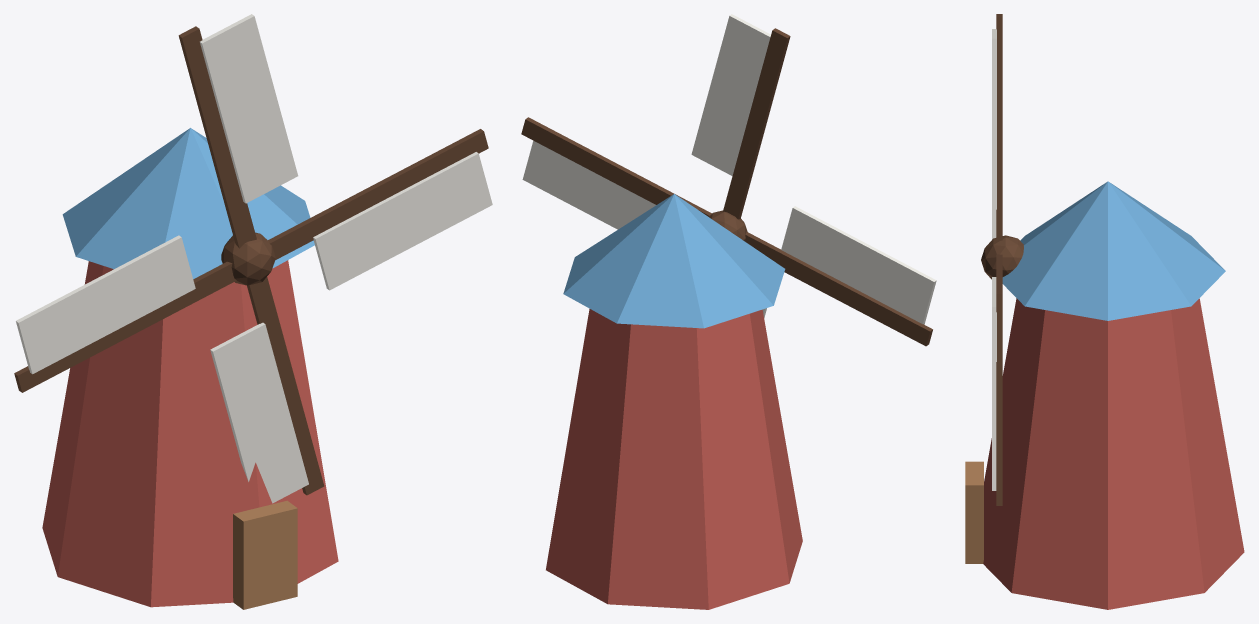
The model's file is deco_windmill.obj.
3 renders of one model, left to right at view 1: azimuth 30°, elevation 25°; view 2: azimuth 150°, elevation 25°; view 3: azimuth 270°, elevation 25°, orthographic. The views are drawn at different scales.
Visible parts, largest first — view 1: deco_windmill; view 2: deco_windmill; view 3: deco_windmill.
Part boxes in pixels (box(x1,y1,x2,y2)): deco_windmill: box(14, 14, 492, 609); deco_windmill: box(521, 14, 936, 609); deco_windmill: box(965, 14, 1244, 609).
Size of the model in its own units: 0.0786 by 0.0913 by 0.045.
Materials: 1 (1 with a texture image).
